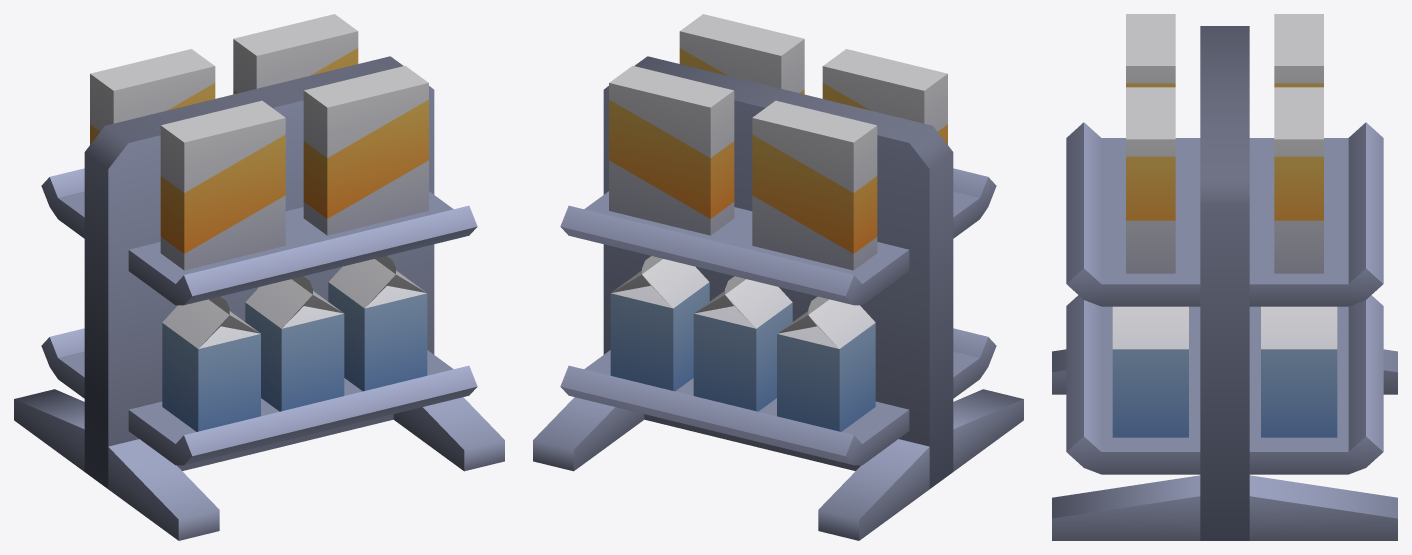
Rendered from shelf-boxes.glb.
3 renders of one model, left to right at view 1: azimuth 30°, elevation 25°; view 2: azimuth 150°, elevation 25°; view 3: azimuth 270°, elevation 25°, orthographic. The views are drawn at different scales.
Parts seen in each view (by area): view 1: shelf-boxes, box (×4), carton (×3); view 2: shelf-boxes, box (×4), carton (×3); view 3: shelf-boxes, box (×4), carton (×2).
Part boxes in pixels (box(x1,y1,x2,y2)): shelf-boxes: box(14, 56, 504, 540); box (×4): box(90, 14, 428, 270); carton (×3): box(162, 256, 427, 431); shelf-boxes: box(533, 56, 1023, 540); box (×4): box(609, 14, 947, 270); carton (×3): box(610, 256, 875, 431); shelf-boxes: box(1052, 26, 1397, 540); box (×4): box(1126, 14, 1323, 273); carton (×2): box(1112, 306, 1337, 437).
Bounding box in the file's own units: 0.8 × 0.85 × 0.7.
